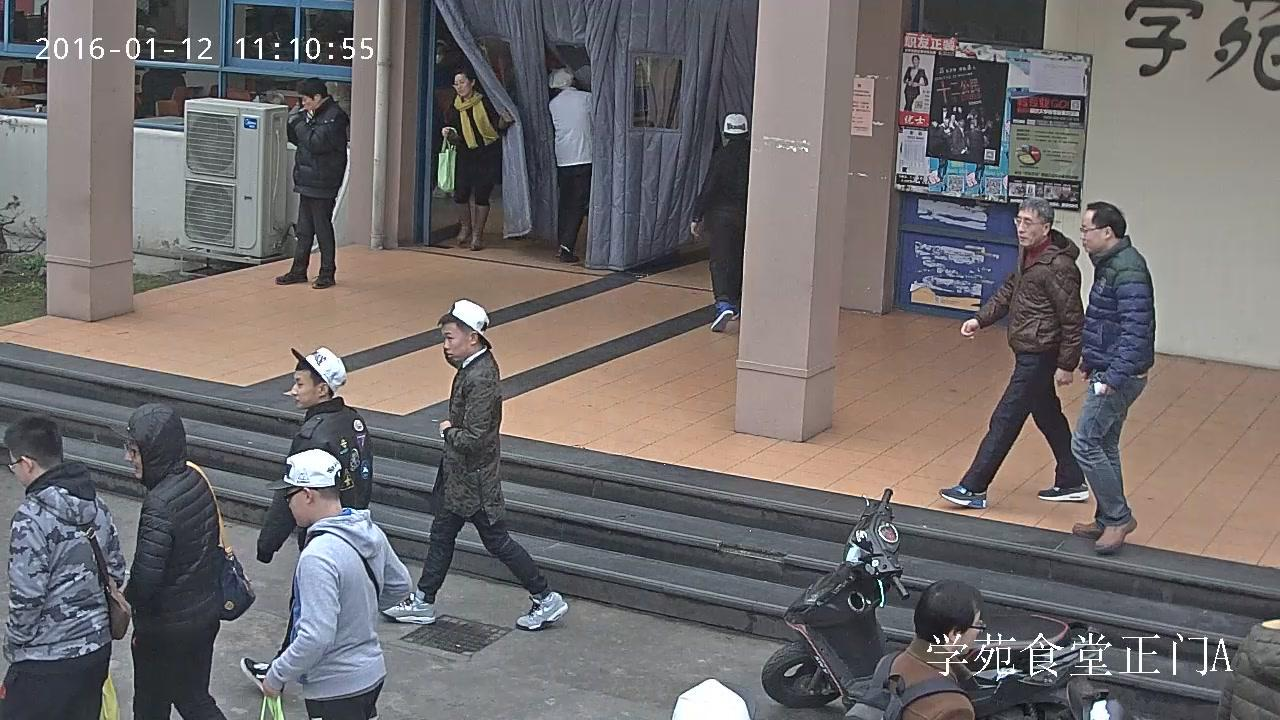person: (380, 298, 567, 629), (239, 345, 373, 699), (939, 196, 1084, 507), (120, 404, 254, 720), (258, 449, 413, 720), (0, 415, 131, 720), (1069, 201, 1153, 553), (845, 580, 986, 720), (275, 77, 348, 289), (437, 69, 510, 251), (689, 113, 750, 330), (548, 69, 594, 262), (142, 67, 185, 115), (902, 55, 927, 111)
